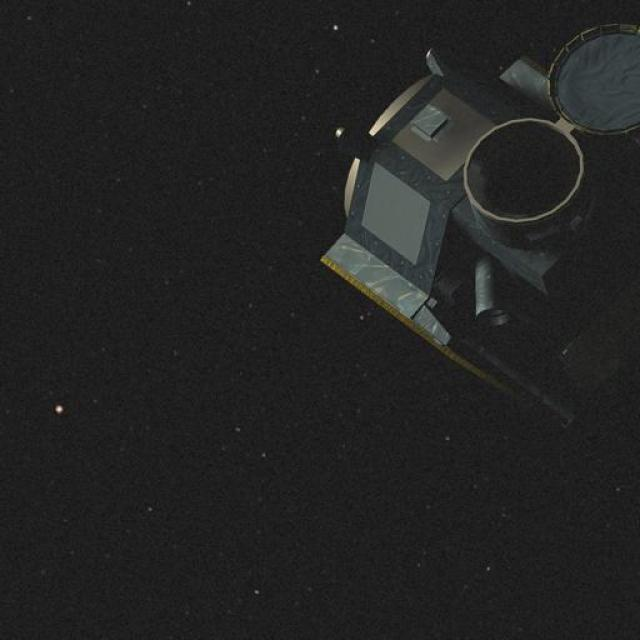cheops: (333, 31, 631, 408)
